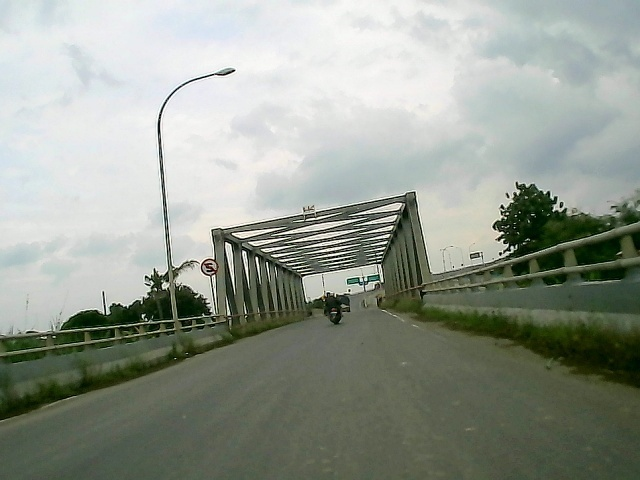Dilarang berhenti: (199, 256, 220, 279)
